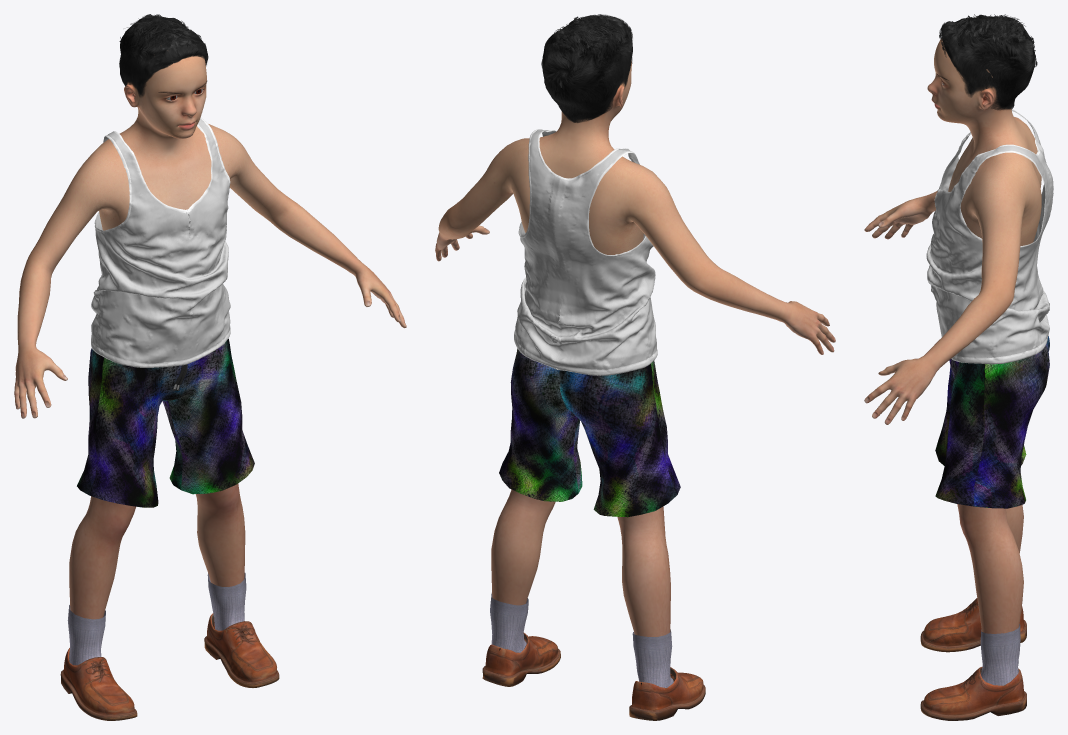
File: athletic_child.glb
3 renders of one model, left to right at view 1: azimuth 30°, elevation 25°; view 2: azimuth 150°, elevation 25°; view 3: azimuth 270°, elevation 25°, orthographic. The views are drawn at different scales.
Visible parts, largest first — view 1: AthleticChild; view 2: AthleticChild; view 3: AthleticChild.
Boxes of the visible parts, box(x1,y1,x2,y2) form: AthleticChild: box(14, 14, 406, 720); AthleticChild: box(435, 14, 835, 720); AthleticChild: box(864, 14, 1053, 720).
Bounding box in the file's own units: 0.8028 × 1.32 × 0.3435.
Materials: 11 (11 with a texture image).
